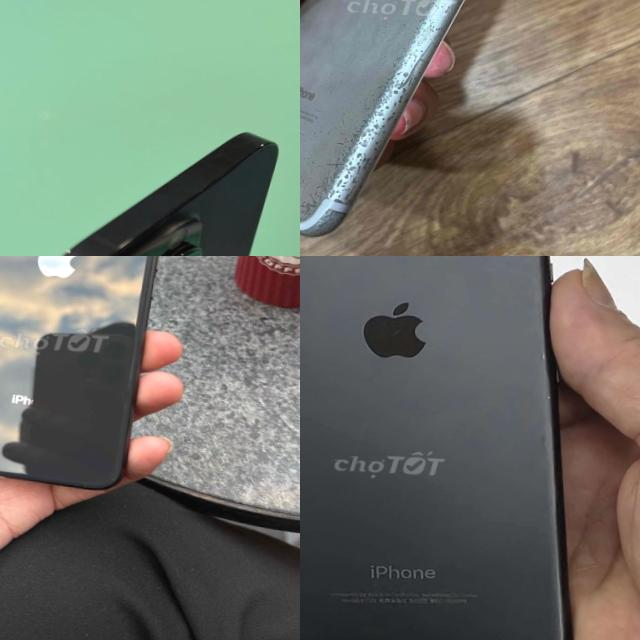gen_14: (18, 121, 300, 256)
gen_7_8: (300, 256, 611, 640), (300, 0, 564, 256), (0, 256, 167, 493)
